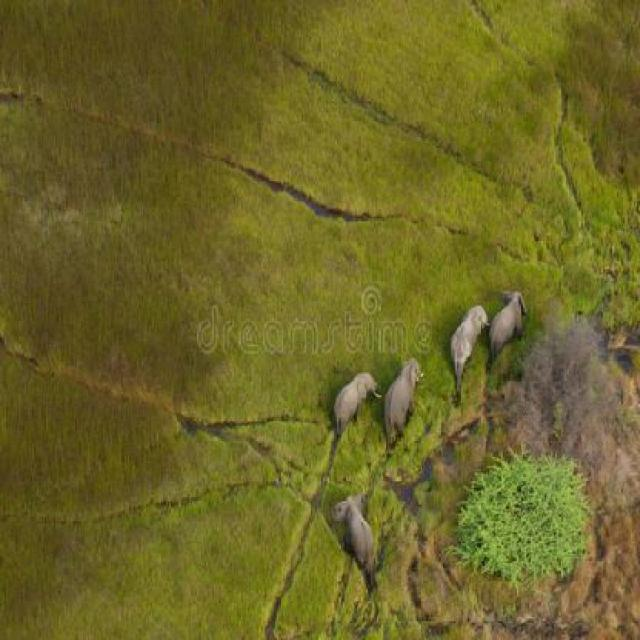elephant: (333, 488, 384, 588), (380, 346, 432, 442), (448, 292, 494, 396), (329, 358, 376, 430), (493, 279, 530, 352)
